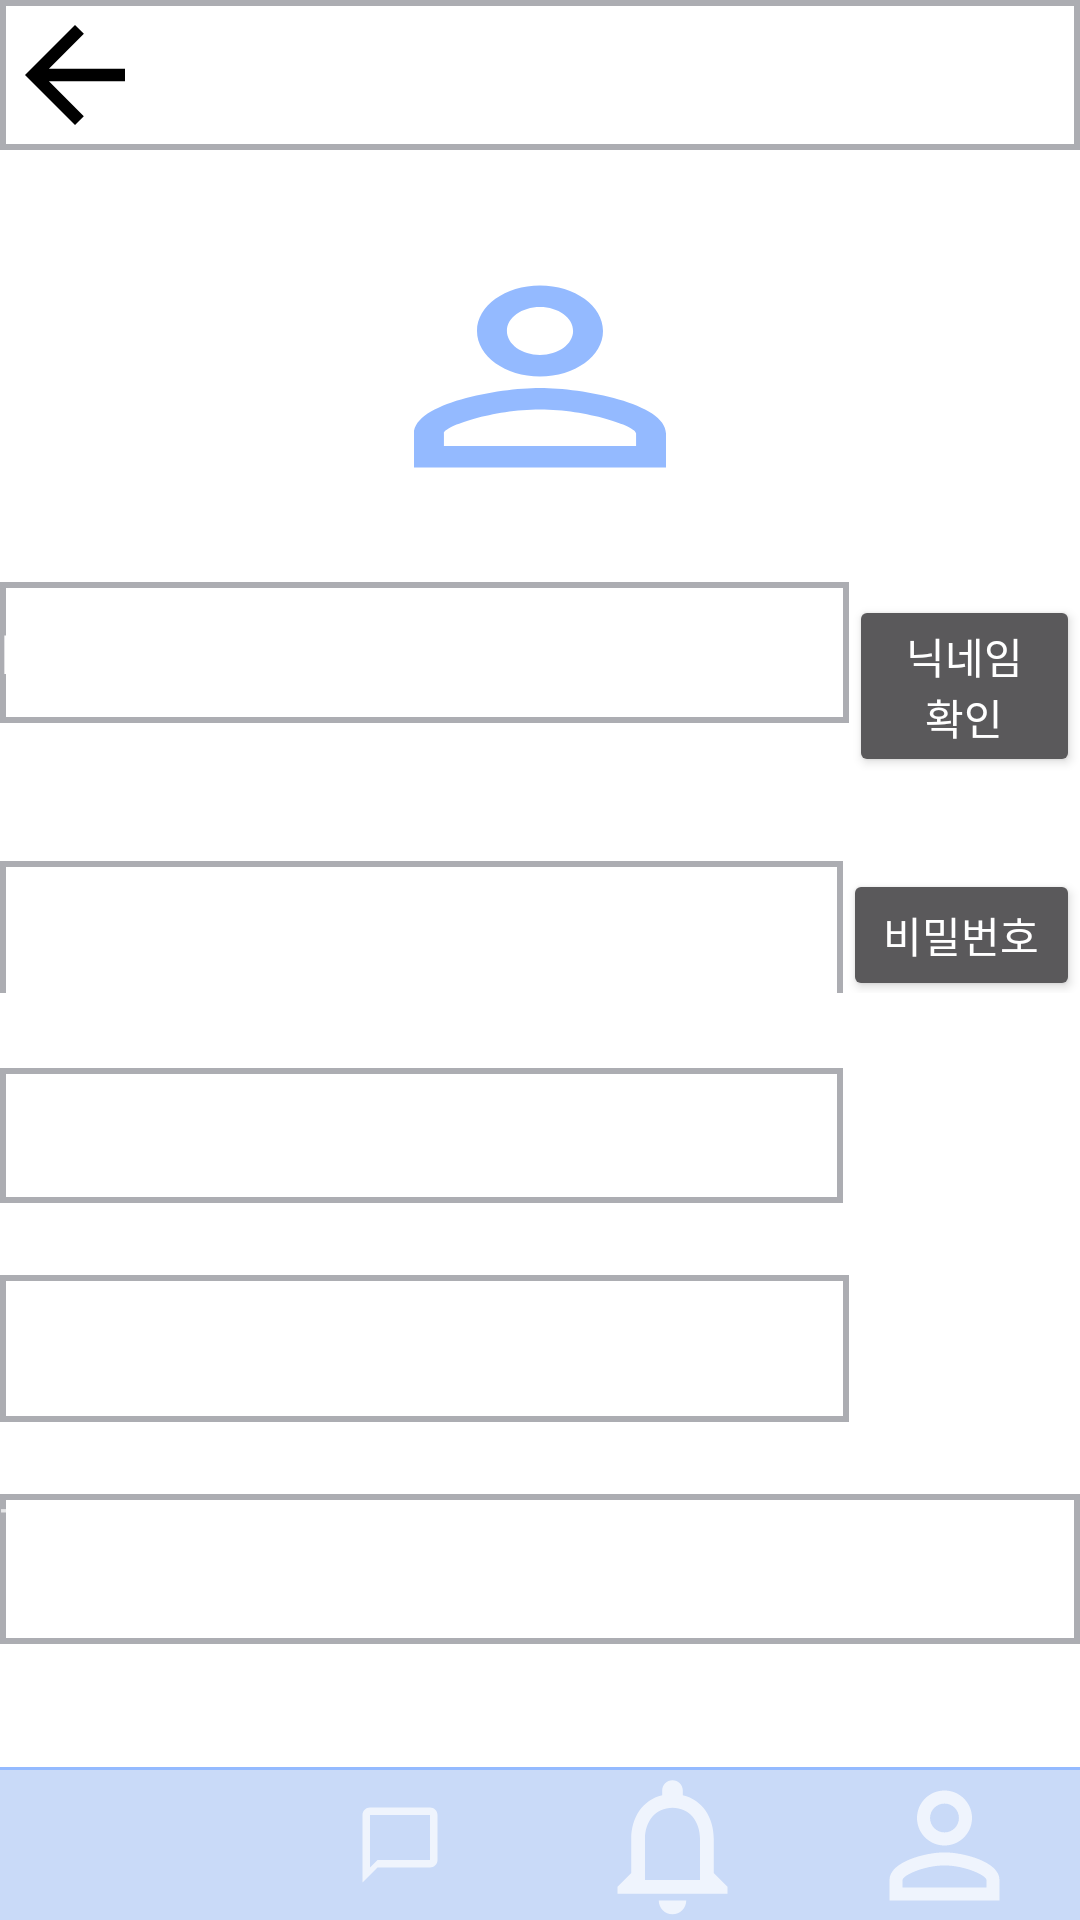

Named icons in this screenshot (1080px x 1920px) and their bounding boxes, (x1, y1, x2, y2):
arrow back: (25, 25, 125, 125)
chat bubble: (363, 1808, 437, 1881)
notifications none: (618, 1780, 727, 1914)
perm identity: (414, 285, 666, 468)
person: (890, 1791, 999, 1900)
